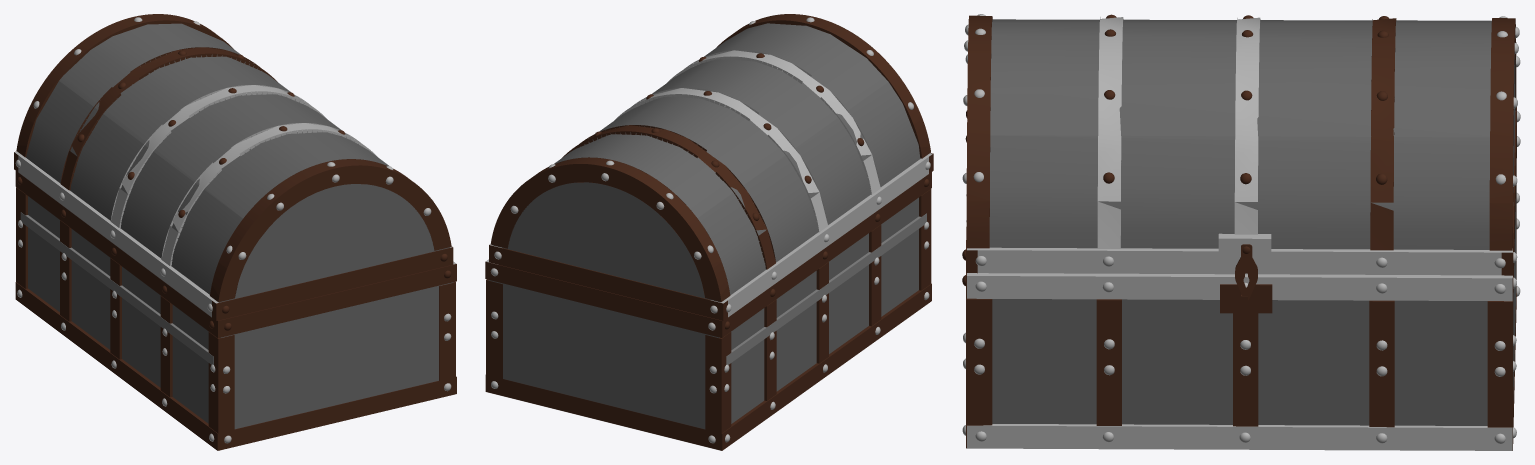
The model's file is arkku.fbx.
3 renders of one model, left to right at view 1: azimuth 30°, elevation 25°; view 2: azimuth 150°, elevation 25°; view 3: azimuth 270°, elevation 25°, orthographic. The views are drawn at different scales.
Visible parts, largest first — view 1: Circle26, Rectangle6, Circle115.Circle54, Rectangle7, Circle116, Rectangle0.Rectangle1, Rectangl22.Rectangl27, Rectangl22, Rectangle3.Rectangle4, Rectangle3.Rectangl29, Rectangle3.Rectangl30, Circle116.Circle55 (+12 smaller); view 2: Circle26, Rectangle2, Circle115, Rectangle7, Circle116.Circle55, Rectangle0, Rectangl22.Rectangl24, Rectangle3.Rectangle4, Rectangl22.Rectangl23, Rectangle3.Rectangl29, Rectangle3.Rectangl30, Circle116 (+12 smaller); view 3: Circle26, Rectangle7.Rectangle8, Rectangle3.Rectangle9, Rectangle3.Rectangl10, Rectangle3, Circle116.Circle55, Circle116, Circle119.Circle117, Circle119, Circle119.Circle118, Rectangl11.Rectangl15, Rectangl11.Rectangl12 (+7 smaller).
Boxes of the visible parts, bbox=[...] form: Circle26: bbox=[25, 23, 388, 294]; Rectangle6: bbox=[228, 284, 445, 429]; Circle115.Circle54: bbox=[219, 184, 449, 302]; Rectangle7: bbox=[28, 196, 227, 423]; Circle116: bbox=[210, 159, 451, 302]; Rectangle0.Rectangle1: bbox=[212, 247, 453, 320]; Rectangl22.Rectangl27: bbox=[217, 264, 456, 338]; Rectangl22: bbox=[212, 376, 456, 450]; Rectangle3.Rectangle4: bbox=[14, 151, 218, 317]; Rectangle3.Rectangl29: bbox=[15, 282, 217, 450]; Rectangle3.Rectangl30: bbox=[15, 171, 217, 337]; Circle116.Circle55: bbox=[16, 14, 233, 157]; Circle26: bbox=[553, 23, 920, 295]; Rectangle2: bbox=[496, 281, 711, 429]; Circle115: bbox=[492, 182, 720, 302]; Rectangle7: bbox=[712, 197, 918, 423]; Circle116.Circle55: bbox=[490, 157, 730, 301]; Rectangle0: bbox=[489, 245, 727, 320]; Rectangl22.Rectangl24: bbox=[485, 261, 721, 337]; Rectangle3.Rectangle4: bbox=[711, 153, 932, 317]; Rectangl22.Rectangl23: bbox=[485, 374, 721, 450]; Rectangle3.Rectangl29: bbox=[722, 284, 931, 450]; Rectangle3.Rectangl30: bbox=[709, 172, 931, 337]; Circle116: bbox=[716, 14, 930, 158]; Circle26: bbox=[989, 19, 1491, 249]; Rectangle7.Rectangle8: bbox=[992, 299, 1487, 425]; Rectangle3.Rectangle9: bbox=[967, 424, 1512, 450]; Rectangle3.Rectangl10: bbox=[967, 273, 1512, 301]; Rectangle3: bbox=[967, 247, 1512, 275]; Circle116.Circle55: bbox=[1489, 18, 1516, 250]; Circle116: bbox=[966, 15, 992, 248]; Circle119.Circle117: bbox=[1370, 18, 1396, 250]; Circle119: bbox=[1097, 17, 1123, 248]; Circle119.Circle118: bbox=[1234, 17, 1260, 234]; Rectangl11.Rectangl15: bbox=[967, 298, 992, 425]; Rectangl11.Rectangl12: bbox=[1369, 300, 1394, 427].
Size of the model in its own units: 10.65 by 10.57 by 15.67.
